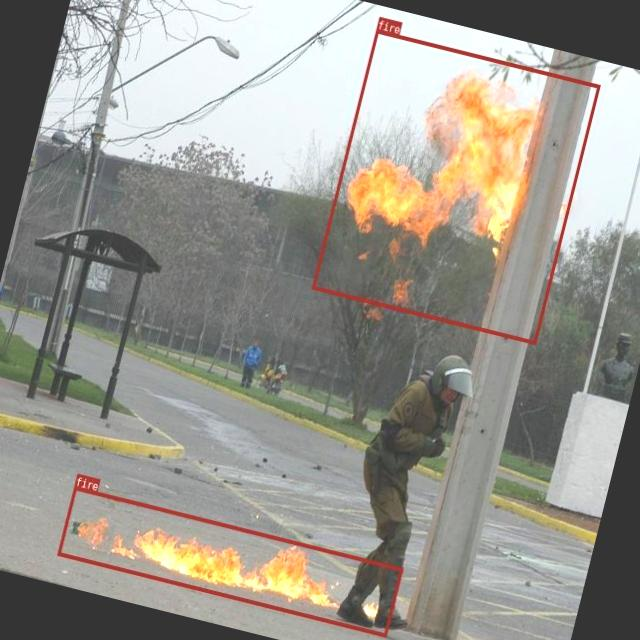fire: (311, 28, 600, 344), (56, 486, 402, 636)
